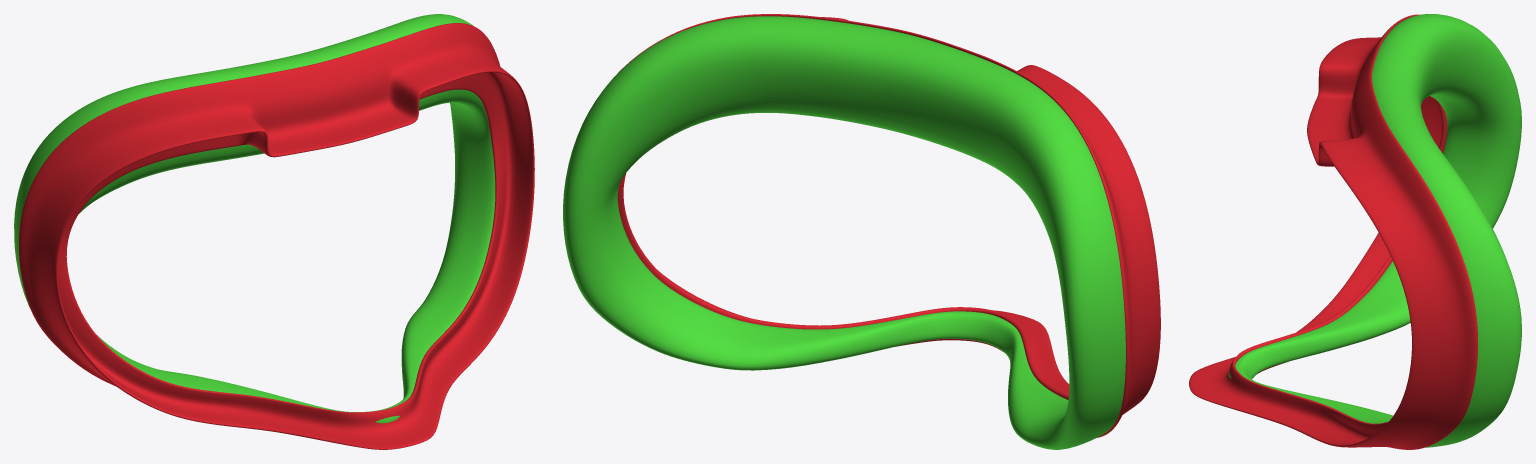
Rendered from Kissen.fbx.
The picture shows the model from 3 angles, left to right: view 1: azimuth 30°, elevation 25°; view 2: azimuth 150°, elevation 25°; view 3: azimuth 270°, elevation 25°; orthographic projection. The views are drawn at different scales.
Parts seen in each view (by area): view 1: kissen; view 2: kissen; view 3: kissen.
Part boxes in pixels (box(x1,y1,x2,y2)): kissen: box(14, 14, 534, 449); kissen: box(563, 14, 1160, 449); kissen: box(1189, 14, 1521, 449).
Bounding box in the file's own units: 121 × 75.84 × 73.4.
